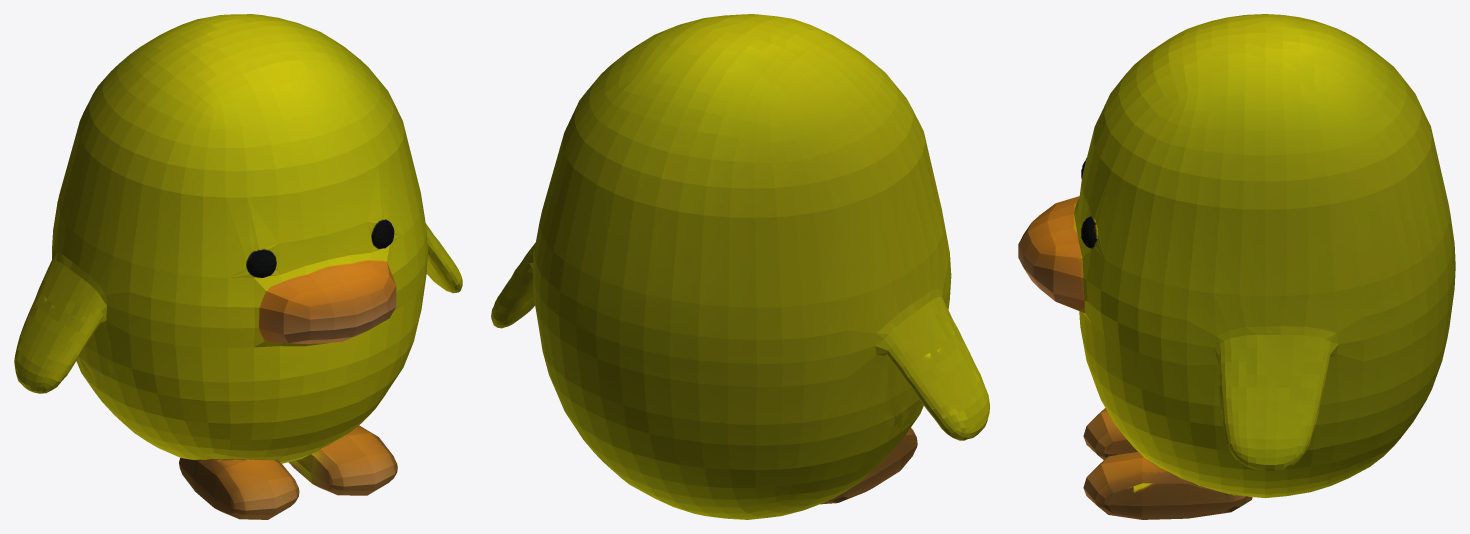
The model's file is low_duck.glb.
3 renders of one model, left to right at view 1: azimuth 30°, elevation 25°; view 2: azimuth 150°, elevation 25°; view 3: azimuth 270°, elevation 25°, orthographic. The views are drawn at different scales.
Parts seen in each view (by area): view 1: LOW_DUCK_MESH; view 2: LOW_DUCK_MESH; view 3: LOW_DUCK_MESH.
Boxes of the visible parts, x1,y1,x2,y2 form: LOW_DUCK_MESH: [14, 14, 462, 519]; LOW_DUCK_MESH: [491, 14, 989, 519]; LOW_DUCK_MESH: [1018, 14, 1455, 519].
Size of the model in its own units: 1.1 by 1.04 by 0.9124.
Materials: 1 (1 with a texture image).
